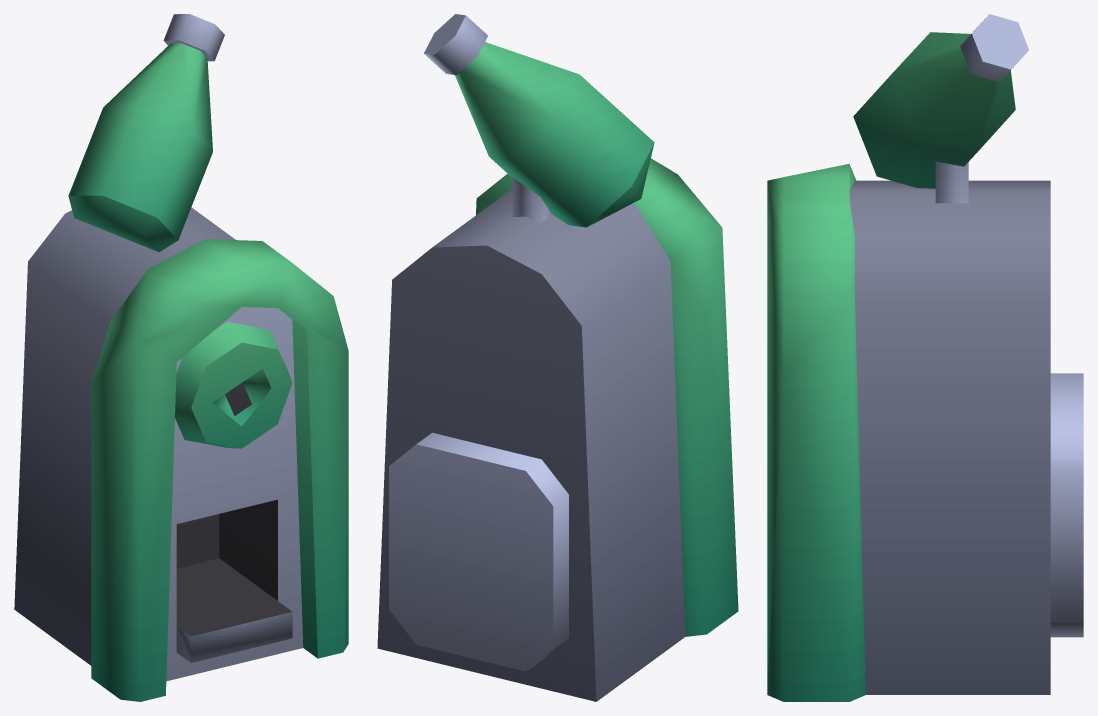
File: cc0-bottle-return-lod1.glb
The picture shows the model from 3 angles, left to right: view 1: azimuth 30°, elevation 25°; view 2: azimuth 150°, elevation 25°; view 3: azimuth 270°, elevation 25°; orthographic projection. The views are drawn at different scales.
Parts seen in each view (by area): view 1: part_0; view 2: part_0; view 3: part_0.
Boxes of the visible parts, <box> form: part_0: <box>14,14,348,701</box>; part_0: <box>377,14,738,701</box>; part_0: <box>767,14,1083,701</box>.
Size of the model in its own units: 0.45 by 1.09 by 0.481.
1 material, 1 textured.
